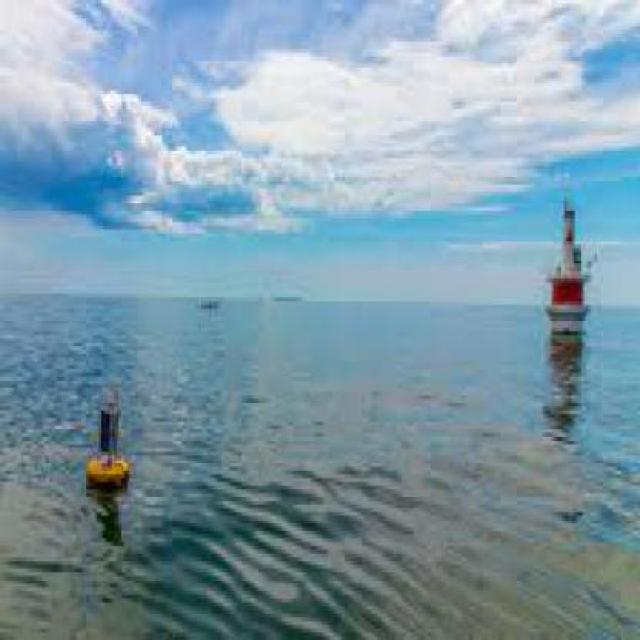buoy: (83, 385, 141, 512)
